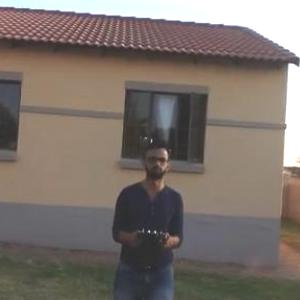follow: (106, 133, 189, 299)
